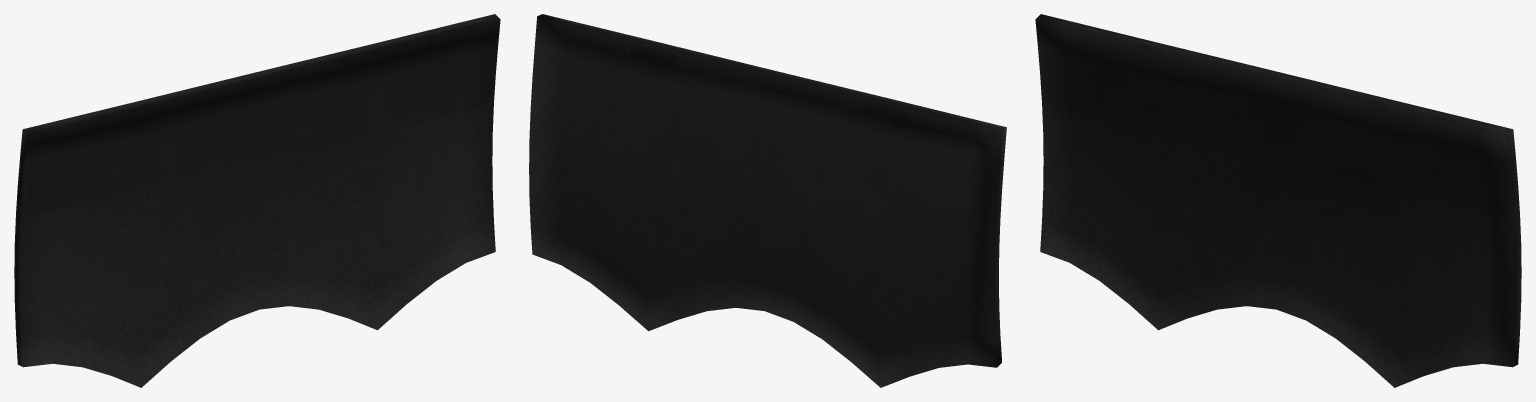
File: drape_black.obj
3 views of the same model, side by side, from view 1: azimuth 30°, elevation 25°; view 2: azimuth 150°, elevation 25°; view 3: azimuth 330°, elevation 25° (orthographic).
Parts seen in each view (by area): view 1: part0; view 2: part0; view 3: part0.
Boxes of the visible parts, x1=… form: part0: x1=14, y1=14, x2=500, y2=387; part0: x1=529, y1=14, x2=1006, y2=387; part0: x1=1035, y1=14, x2=1521, y2=387.
Size of the model in its own units: 1 by 0.5826 by 0.0499.
